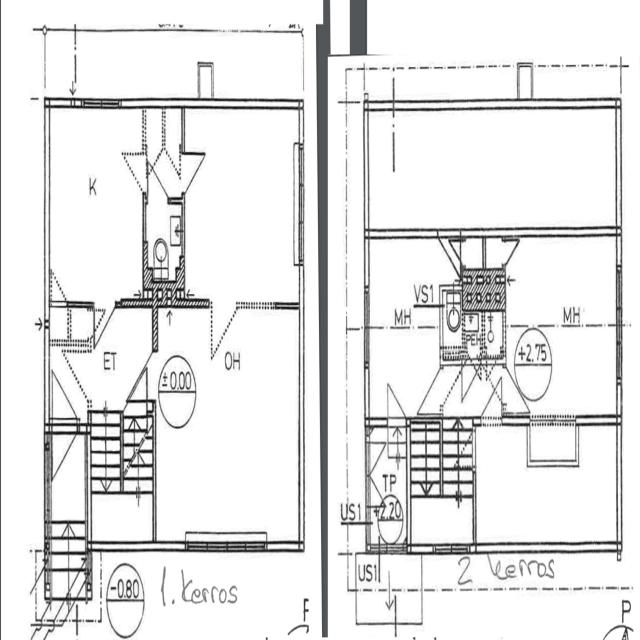door: (471, 356, 537, 432), (150, 136, 210, 211), (194, 296, 247, 375), (35, 424, 79, 488), (444, 351, 486, 410), (116, 357, 150, 429), (49, 362, 83, 433), (482, 226, 524, 278), (116, 144, 149, 210), (411, 358, 445, 422), (433, 229, 468, 290), (473, 372, 508, 426), (385, 380, 411, 428), (48, 264, 70, 309), (484, 356, 503, 390)
window: (181, 525, 271, 560), (291, 136, 306, 271), (614, 258, 626, 392), (528, 408, 576, 435), (361, 286, 374, 373), (428, 538, 472, 562), (80, 92, 124, 114)
